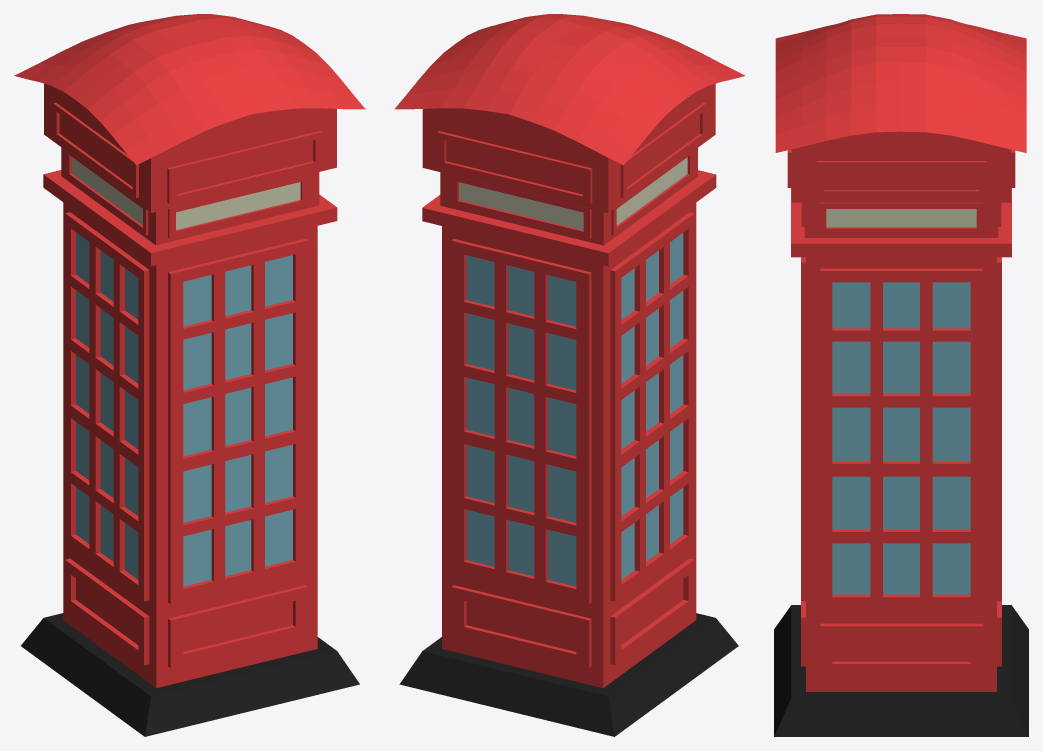
The model's file is phone_booth.glb.
3 renders of one model, left to right at view 1: azimuth 30°, elevation 25°; view 2: azimuth 150°, elevation 25°; view 3: azimuth 270°, elevation 25°, orthographic. The views are drawn at different scales.
Parts seen in each view (by area): view 1: Cube; view 2: Cube; view 3: Cube.
Boxes of the visible parts, x1,y1,x2,y2 form: Cube: (14,14,365,736); Cube: (394,14,745,736); Cube: (774,14,1028,736).
Bounding box in the file's own units: 2.13 × 5.61 × 2.
